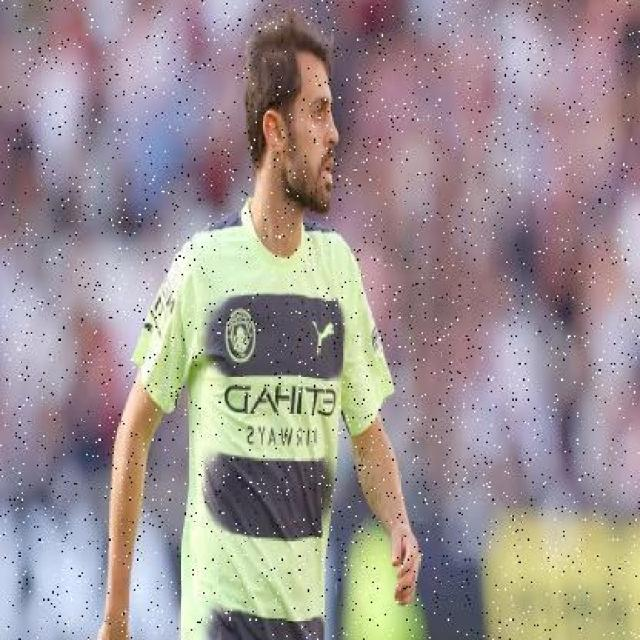person: (93, 6, 421, 640)
